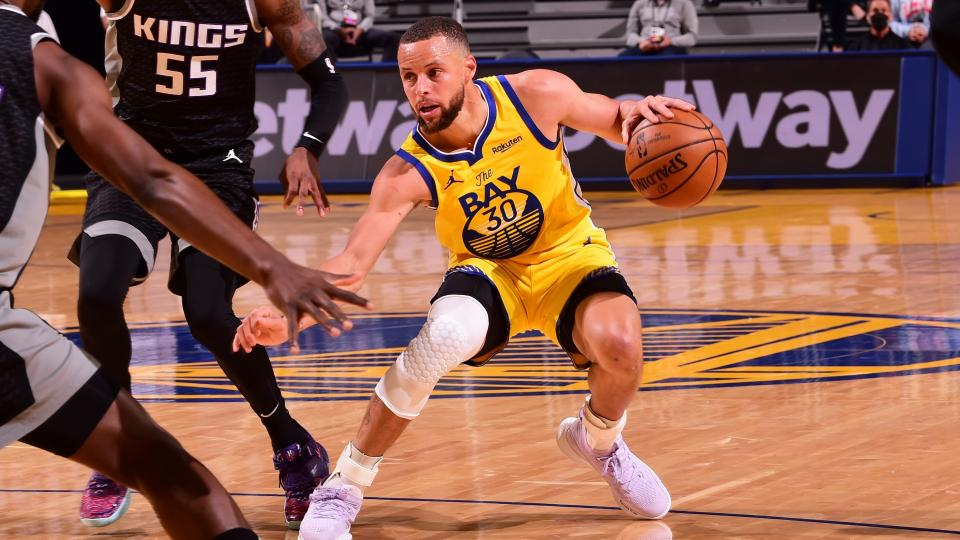b_ball: (623, 102, 739, 204)
face: (387, 12, 482, 132)
player: (234, 2, 710, 540)
